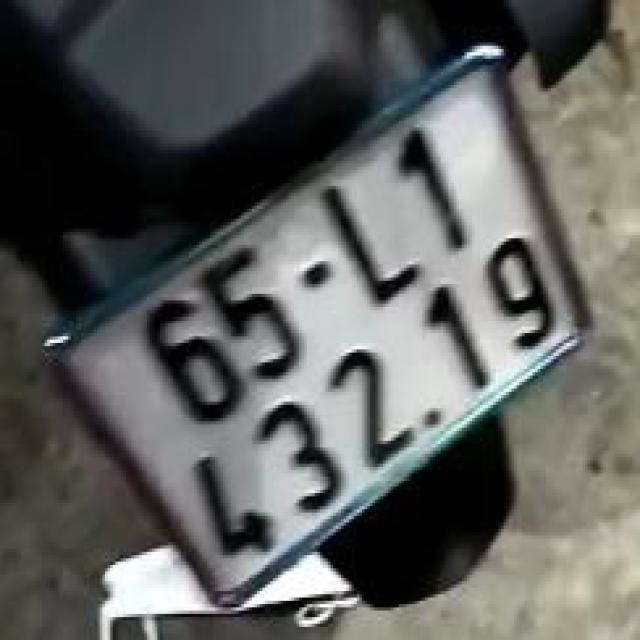1: (382, 111, 487, 261), (410, 265, 509, 406)
2: (318, 334, 423, 479)
3: (245, 377, 360, 528)
4: (177, 432, 292, 580)
5: (191, 225, 319, 403)
6: (126, 272, 254, 444)
9: (473, 216, 568, 366)
L: (309, 151, 434, 328)
